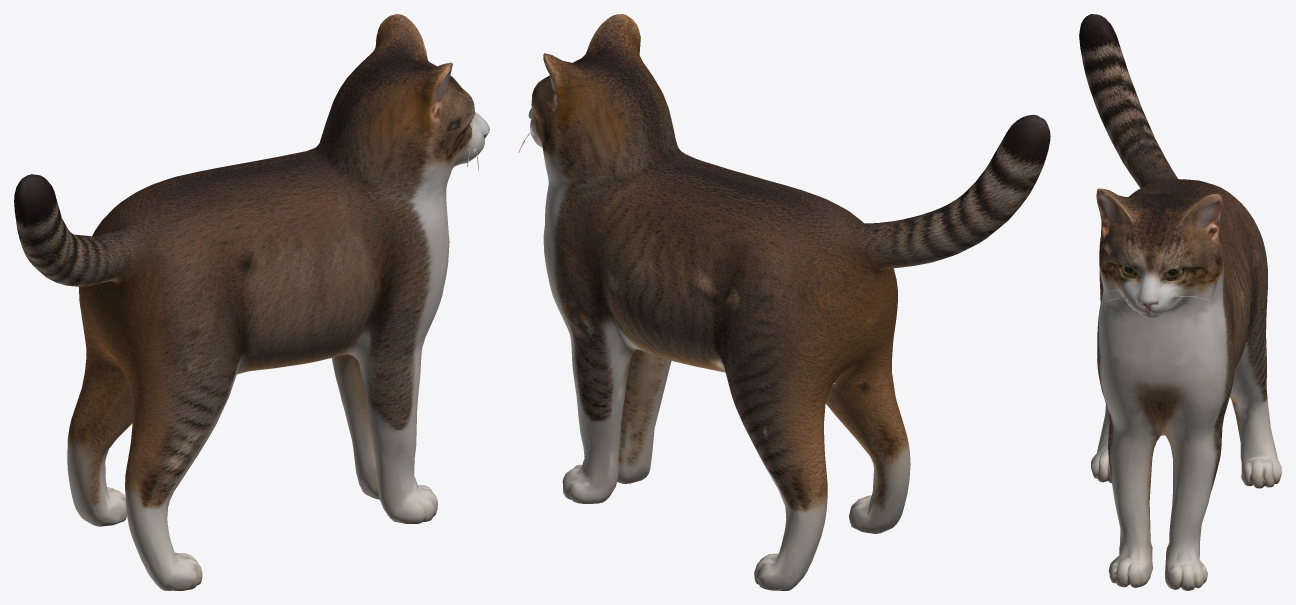
File: LARRY10.glb
3 renders of one model, left to right at view 1: azimuth 30°, elevation 25°; view 2: azimuth 150°, elevation 25°; view 3: azimuth 270°, elevation 25°, orthographic. The views are drawn at different scales.
Visible parts, largest first — view 1: material; view 2: material; view 3: material.
Part boxes in pixels (<box>): material: <box>14,14,489,590</box>; material: <box>518,14,1050,590</box>; material: <box>1079,14,1281,590</box>.
Bounding box in the file's own units: 1.14 × 0.9996 × 0.4567.
1 material, 1 textured.
